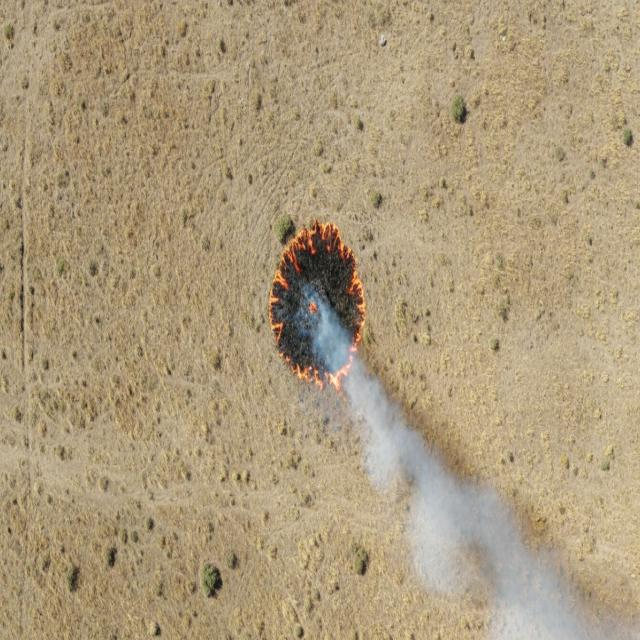wildfire: (264, 216, 404, 466)
